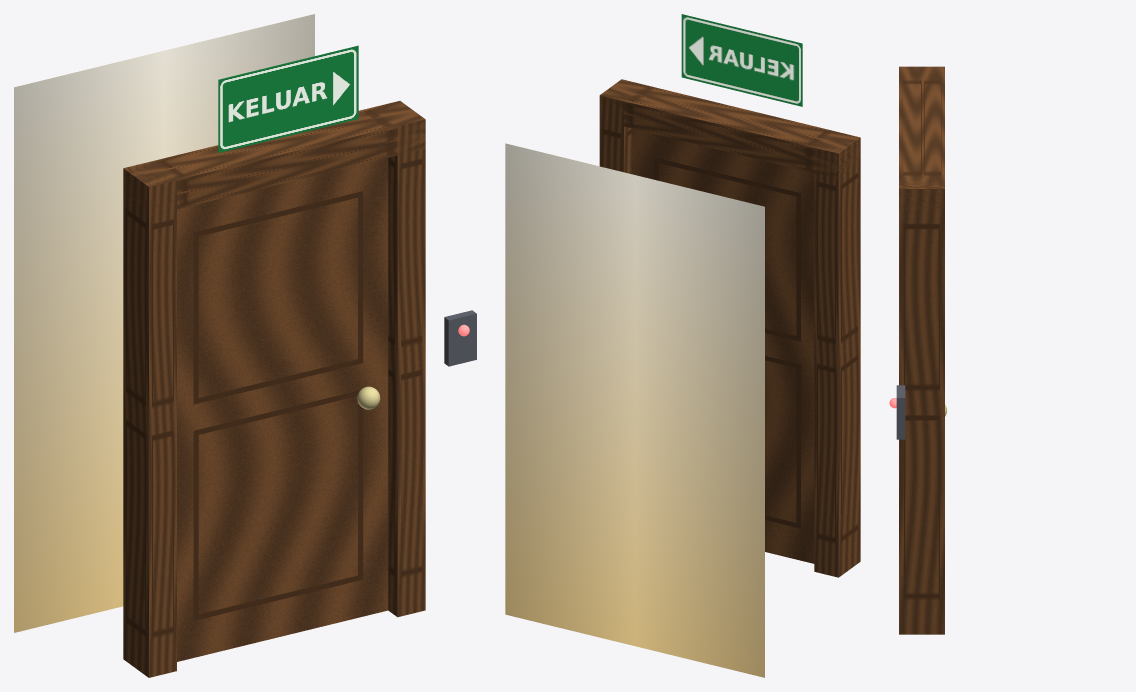
The model's file is lab_exit_door.glb.
The picture shows the model from 3 angles, left to right: view 1: azimuth 30°, elevation 25°; view 2: azimuth 150°, elevation 25°; view 3: azimuth 270°, elevation 25°; orthographic projection. The views are drawn at different scales.
Parts seen in each view (by area): view 1: DoorPanel-col, LightBehindDoor, FrameLeft-col, FrameRight-col, FrameTop-col, ExitSign, Keypad; view 2: LightBehindDoor, DoorPanel-col, FrameLeft-col, FrameTop-col, ExitSign, FrameRight-col; view 3: FrameRight-col, FrameTop-col, Keypad.
Part boxes in pixels (x1=…): DoorPanel-col: x1=177, y1=158, x2=388, y2=661; LightBehindDoor: x1=14, y1=14, x2=314, y2=632; FrameLeft-col: x1=123, y1=162, x2=176, y2=677; FrameRight-col: x1=388, y1=119, x2=425, y2=617; FrameTop-col: x1=123, y1=101, x2=425, y2=215; ExitSign: x1=218, y1=45, x2=358, y2=152; Keypad: x1=444, y1=310, x2=476, y2=366; LightBehindDoor: x1=505, y1=143, x2=764, y2=677; DoorPanel-col: x1=632, y1=128, x2=814, y2=563; FrameLeft-col: x1=814, y1=138, x2=860, y2=577; FrameTop-col: x1=600, y1=79, x2=860, y2=178; ExitSign: x1=681, y1=14, x2=802, y2=106; FrameRight-col: x1=599, y1=95, x2=631, y2=174; FrameRight-col: x1=899, y1=178, x2=944, y2=634; FrameTop-col: x1=899, y1=66, x2=944, y2=214; Keypad: x1=896, y1=385, x2=905, y2=439.
Bounding box in the file's own units: 1.69 × 2.97 × 1.11.
6 materials, 3 textured.
